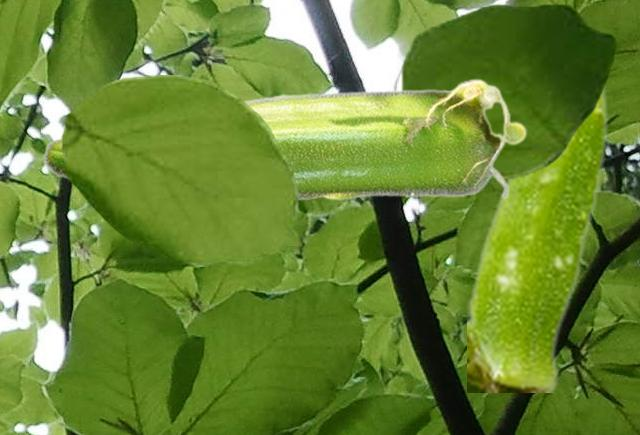okra: (42, 77, 526, 202), (467, 81, 608, 391)
